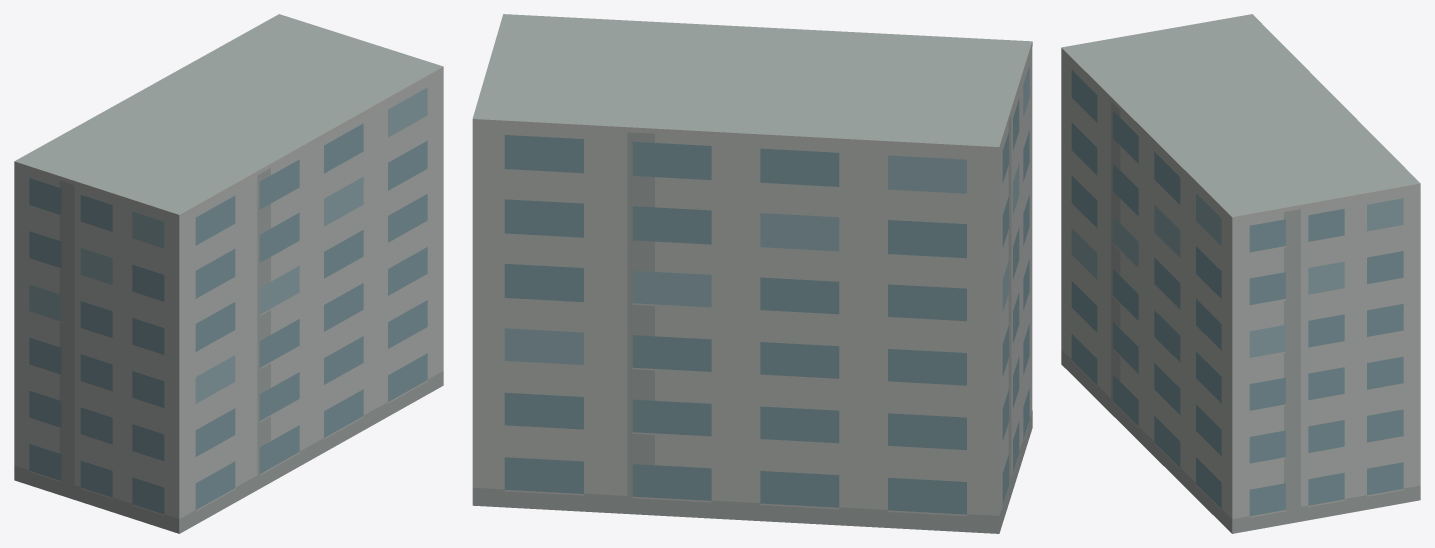
The model's file is survey-upis-32851566.glb.
The picture shows the model from 3 angles, left to right: view 1: azimuth 30°, elevation 25°; view 2: azimuth 150°, elevation 25°; view 3: azimuth 270°, elevation 25°; orthographic projection. The views are drawn at different scales.
Parts seen in each view (by area): view 1: survey-upis-32851566.tmp; view 2: survey-upis-32851566.tmp; view 3: survey-upis-32851566.tmp.
Part boxes in pixels (x1,y1,x2,y2): survey-upis-32851566.tmp: [14, 14, 443, 533]; survey-upis-32851566.tmp: [472, 14, 1032, 533]; survey-upis-32851566.tmp: [1061, 14, 1420, 533].
Size of the model in its own units: 25.42 by 18.47 by 19.01.
